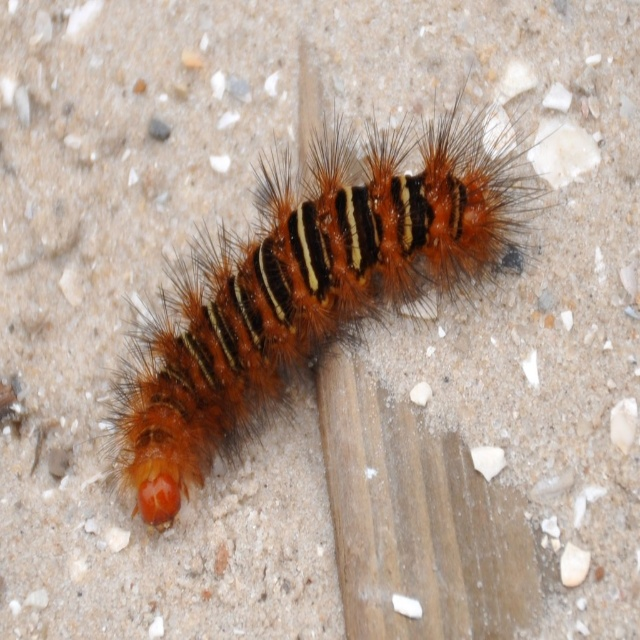Centipede: (74, 56, 566, 533)
